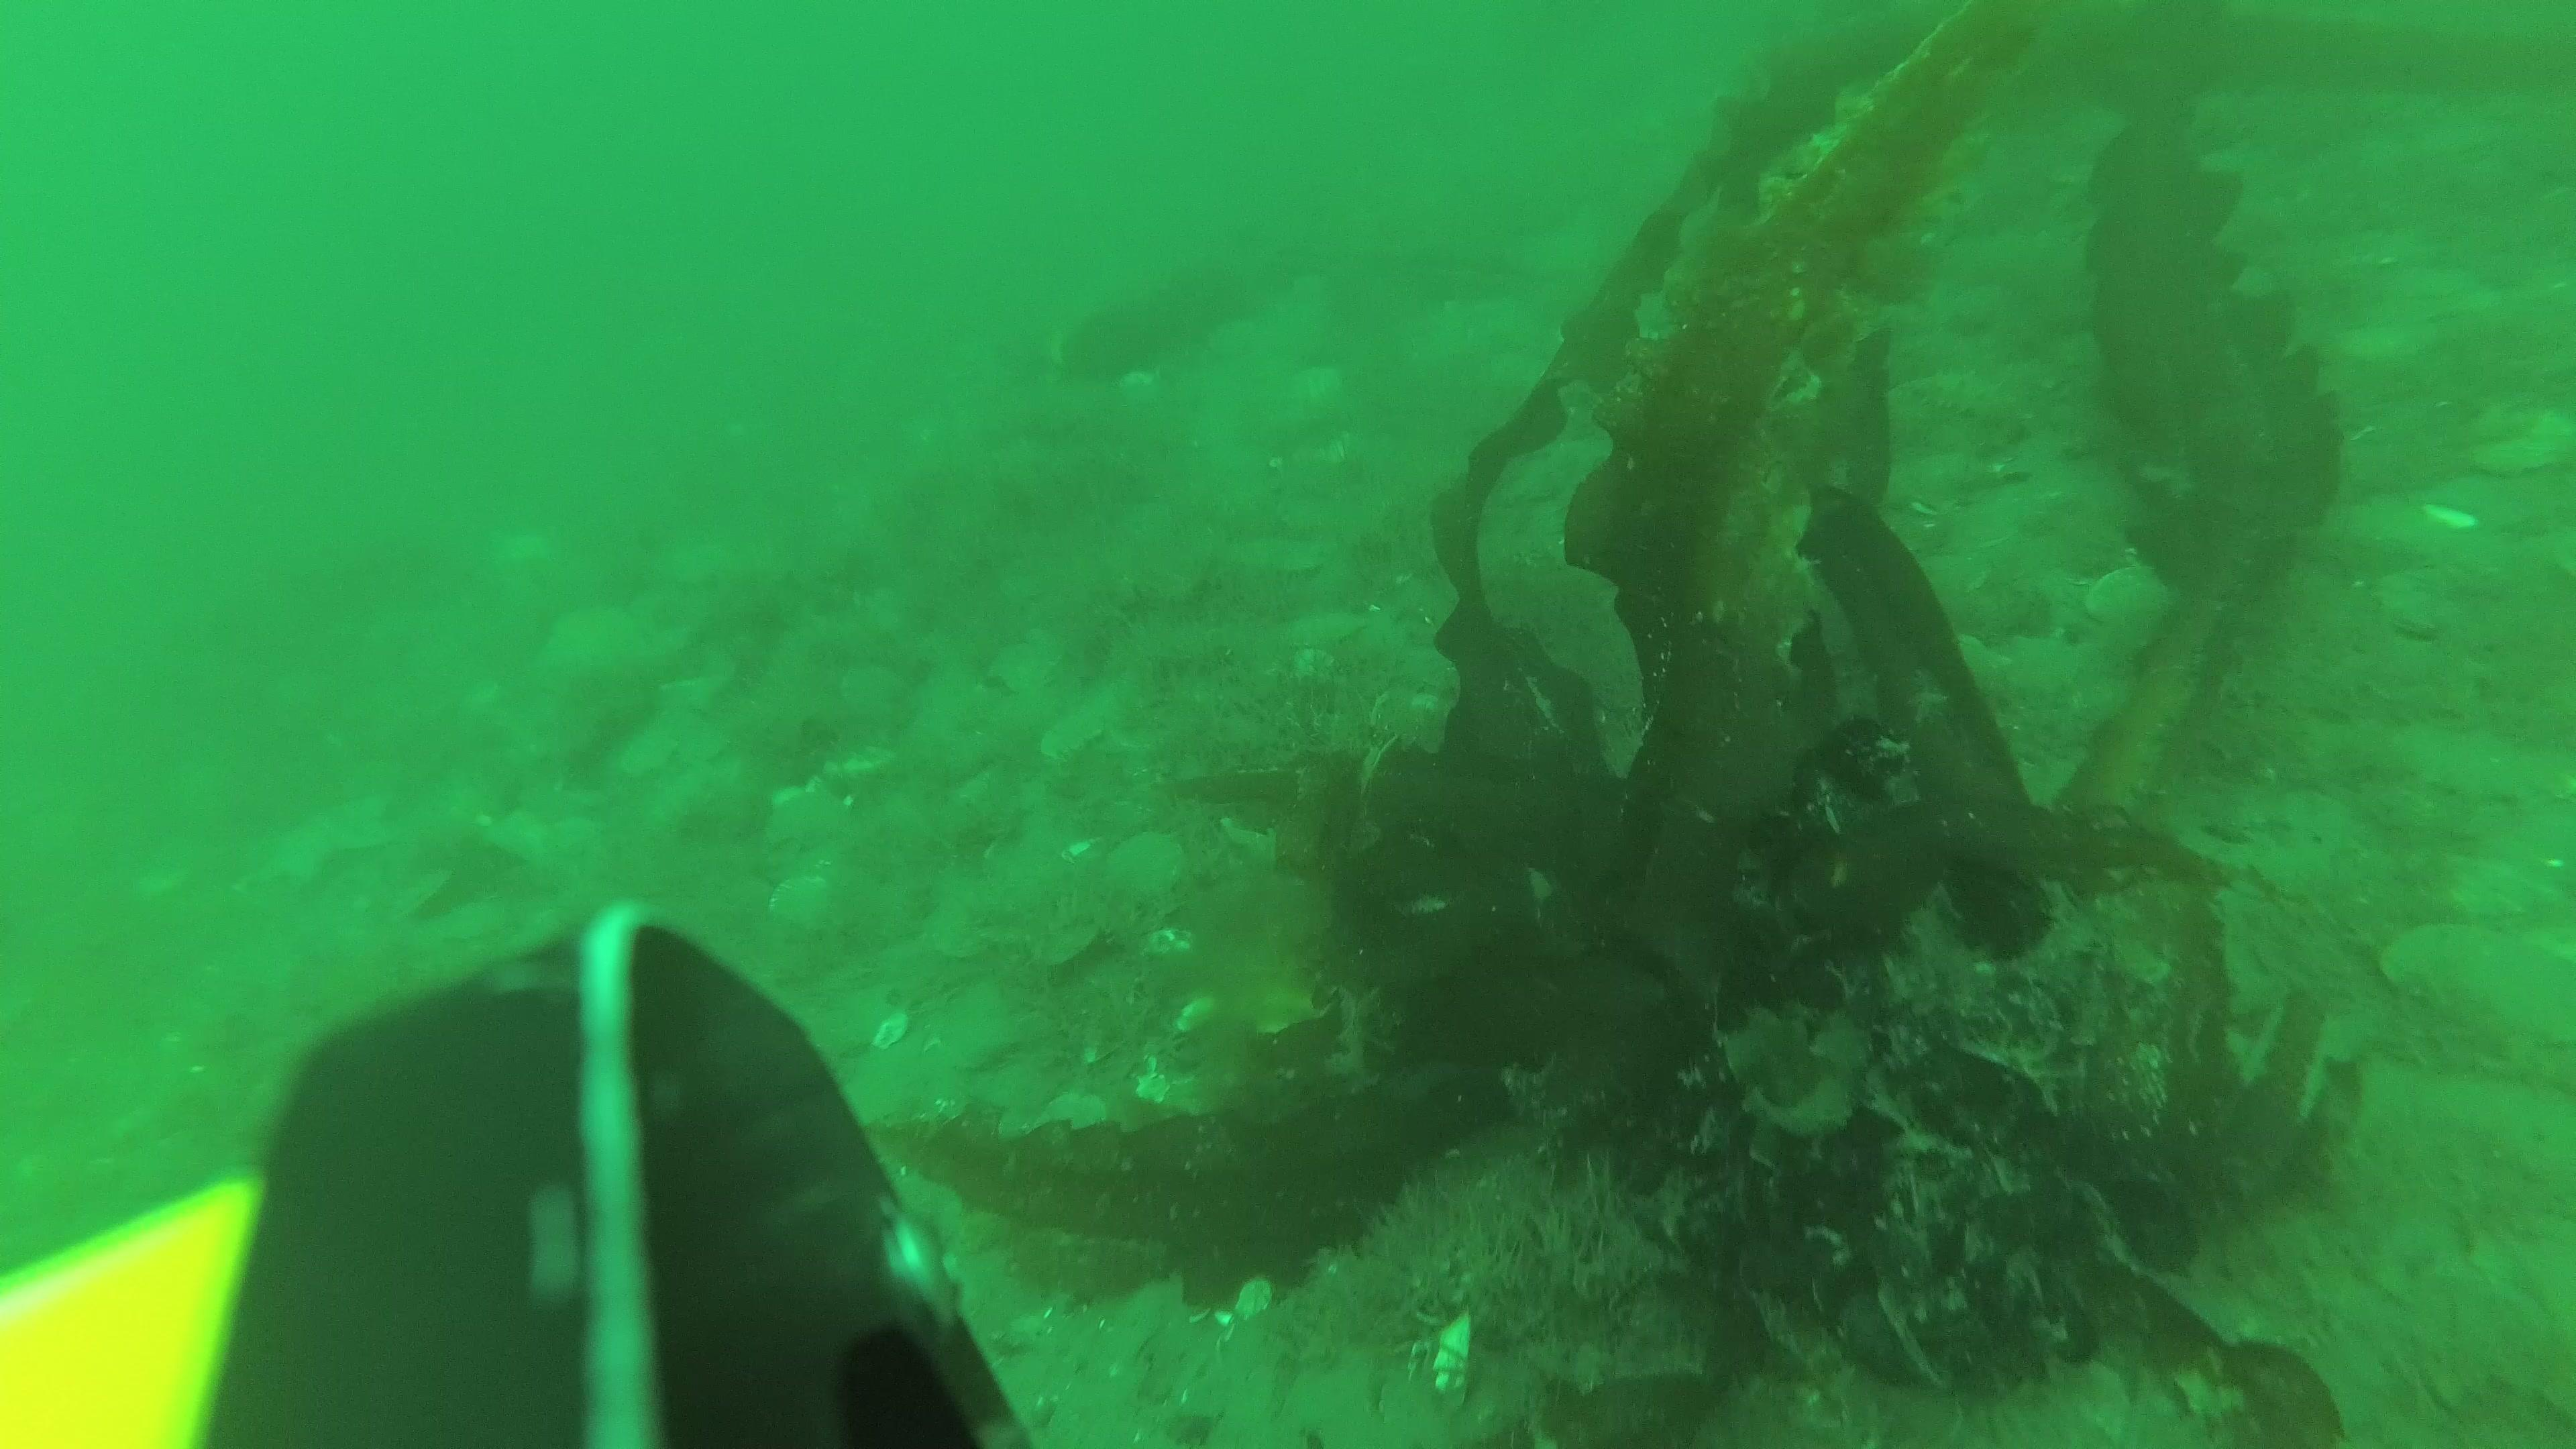scallop: (2381, 913, 2576, 1067), (2084, 556, 2180, 635), (2350, 492, 2450, 566), (1100, 833, 1189, 915), (1277, 603, 1362, 653)
